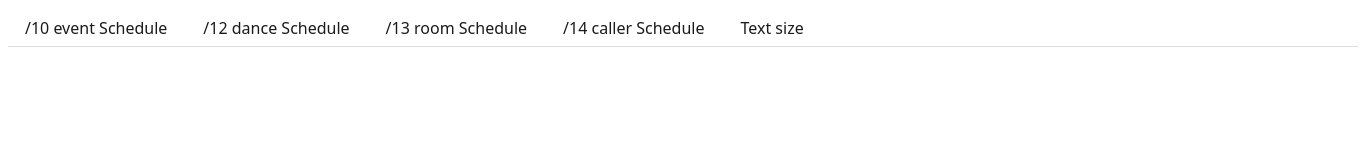
Nav › opens the dropdown when the toggle is clicked
Click the button "Text size" at x=772, y=28, box [724, 8, 821, 47]
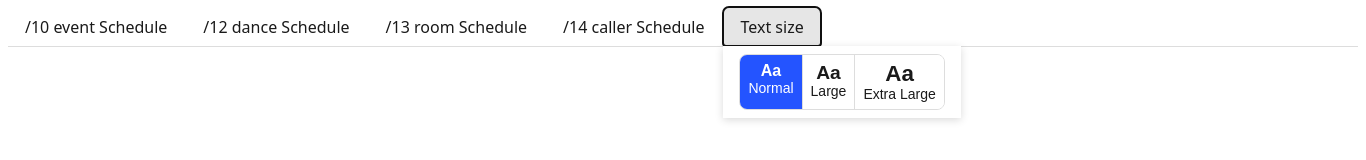
Check: the button "Text size" is expanded, box [724, 7, 821, 46]
Check: the button "Aa Normal" is shown, box [740, 55, 803, 109]
